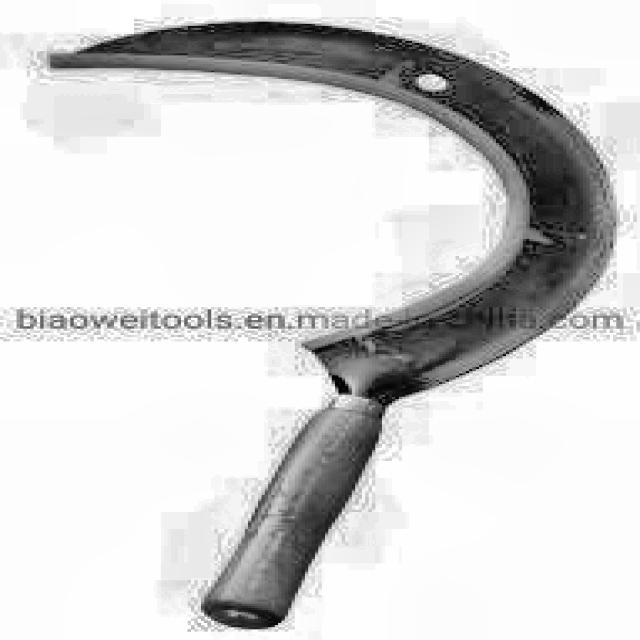celurit: (29, 11, 634, 638)
